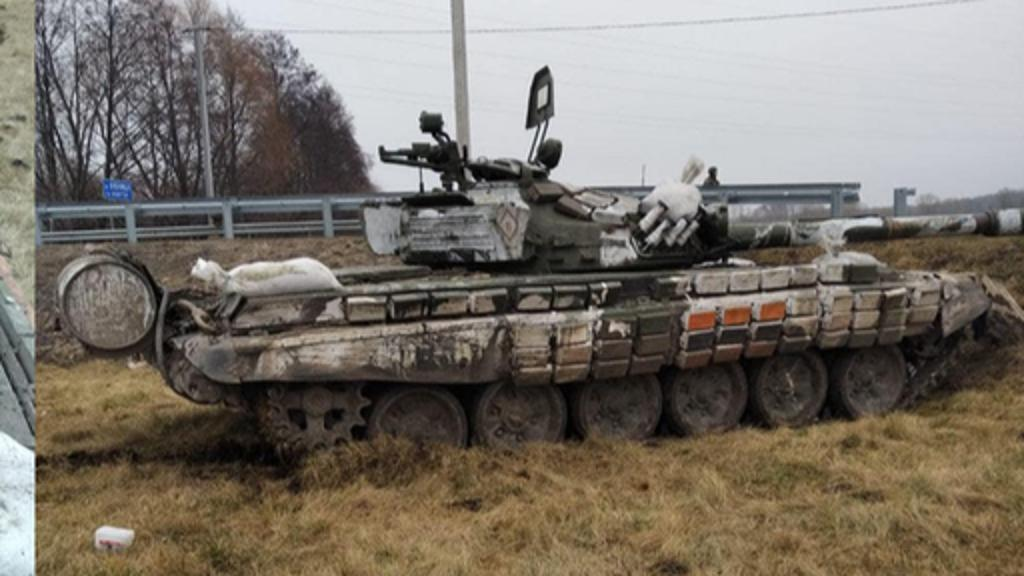TANK: (48, 136, 1022, 462)
